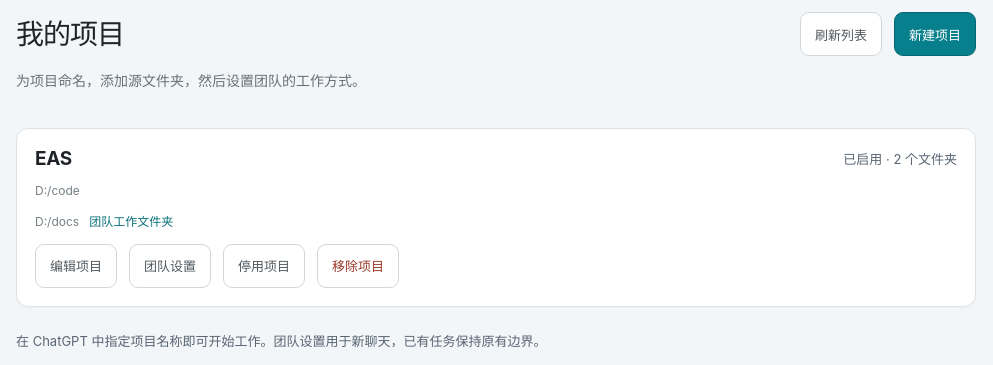
Test: toggles project availability without rewriting its team selection
Click the button "停用项目" at (264, 266), box [223, 244, 305, 288]
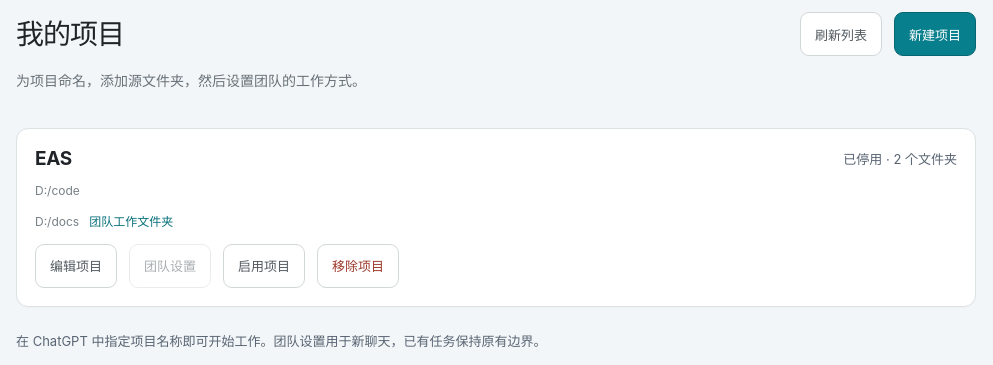
Check: the button "启用项目" is shown, box [223, 244, 305, 288]
